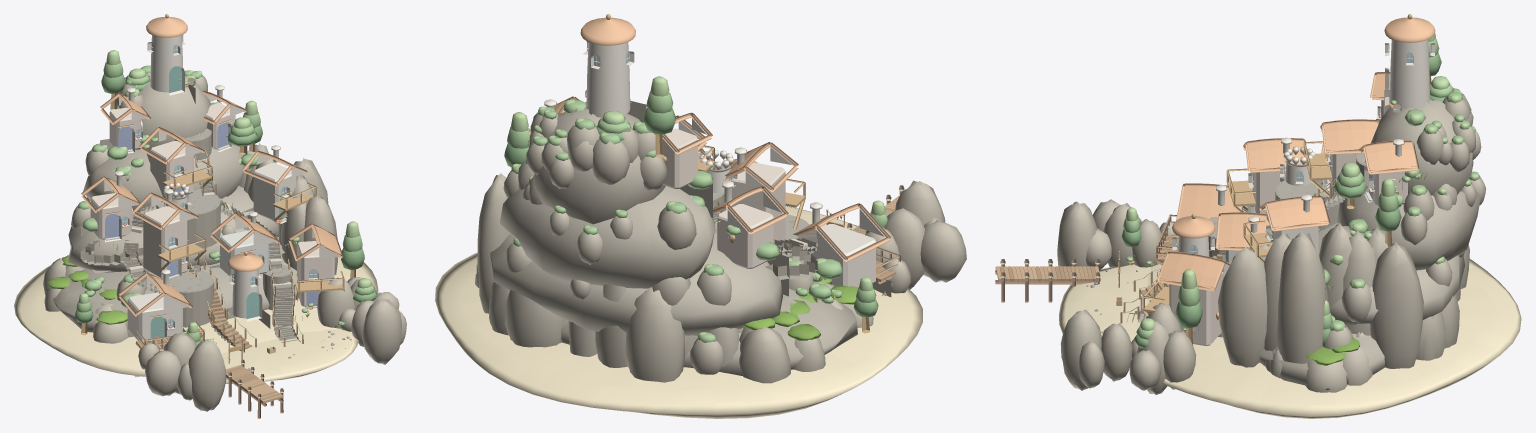
File: azura.glb
3 views of the same model, side by side, from view 1: azimuth 30°, elevation 25°; view 2: azimuth 150°, elevation 25°; view 3: azimuth 270°, elevation 25° (orthographic). The views are drawn at different scales.
Parts seen in each view (by area): view 1: Azura; view 2: Azura; view 3: Azura.
Part boxes in pixels (left/top/right/bottom): Azura: left=14, top=14, right=406, bottom=418; Azura: left=435, top=14, right=966, bottom=418; Azura: left=995, top=14, right=1521, bottom=418.
Size of the model in its own units: 25.23 by 20.69 by 29.32.
